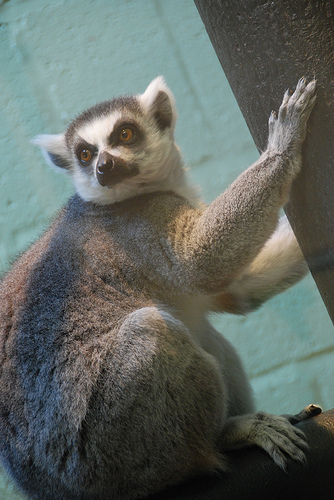cat: (2, 73, 323, 493)
